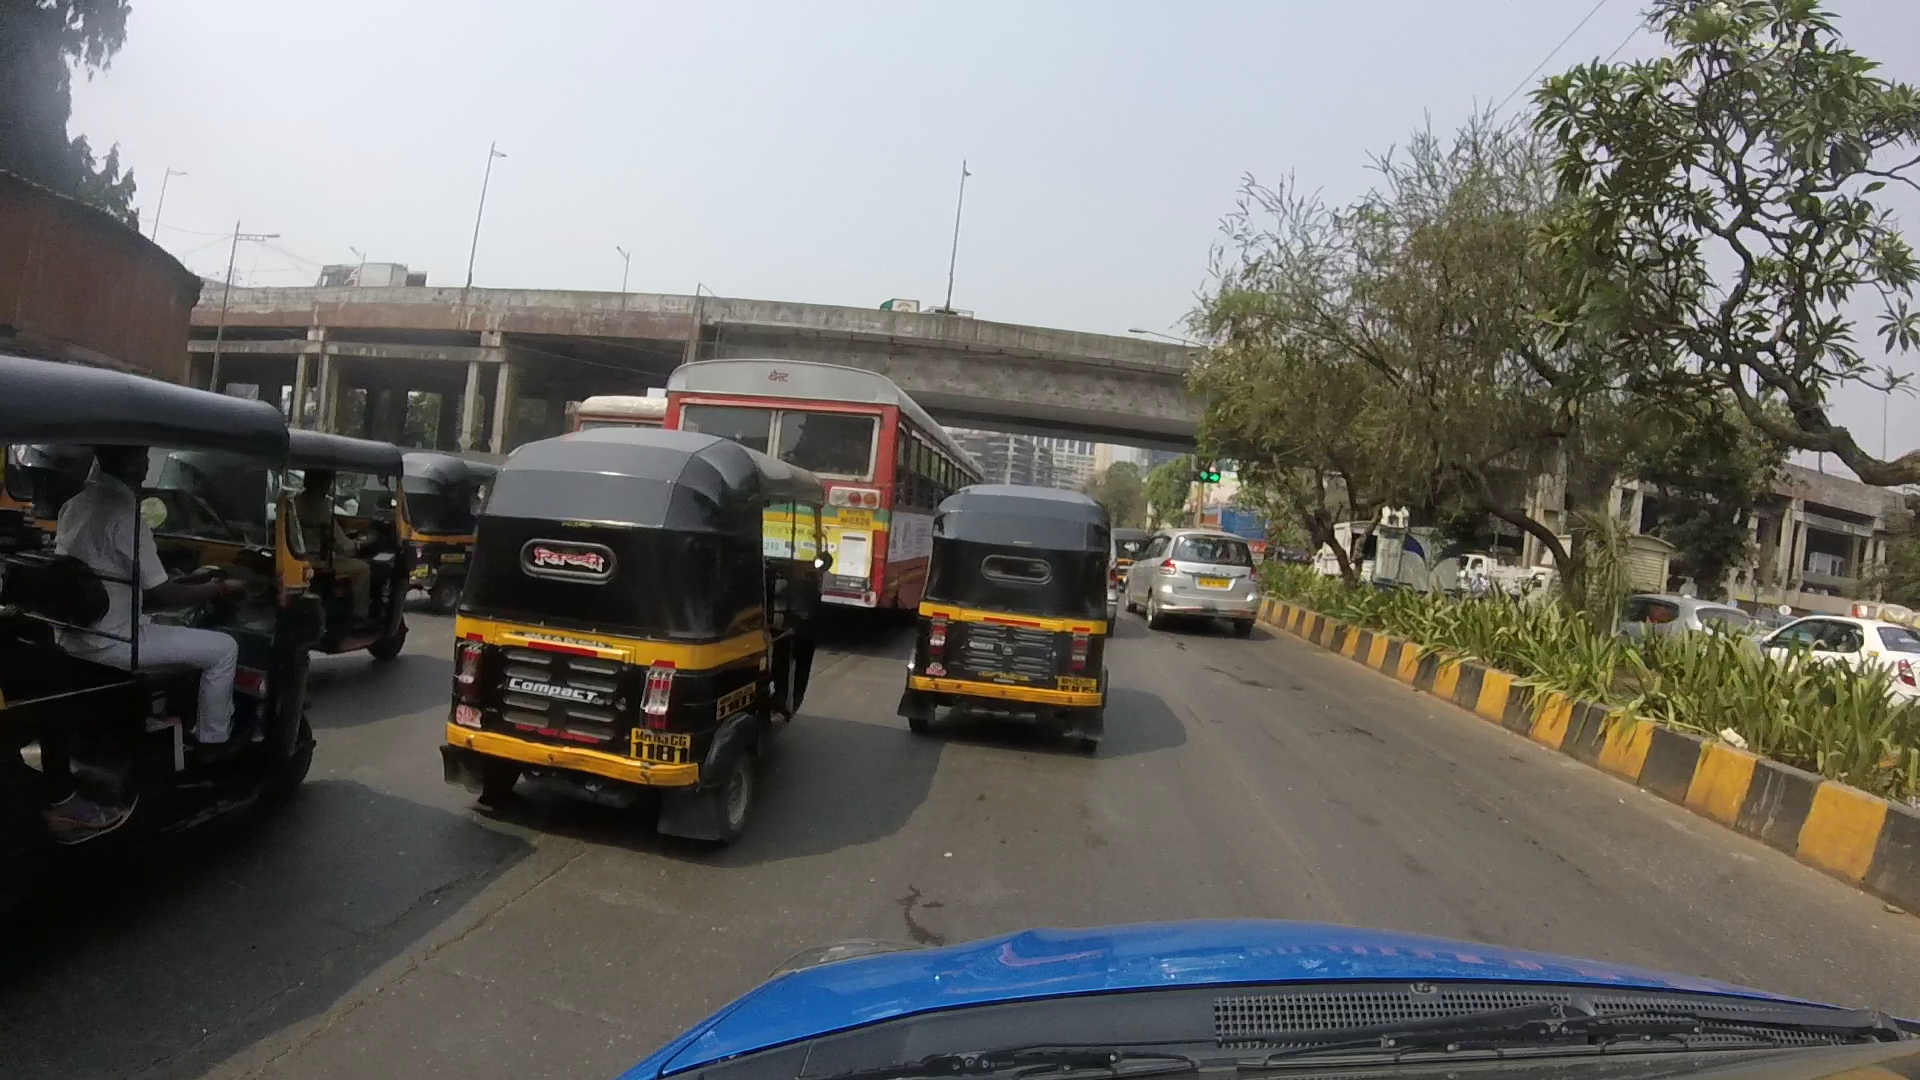bus: (659, 334, 968, 628)
car: (1135, 495, 1265, 659)
rickshaw: (4, 340, 307, 905), (460, 425, 812, 804), (907, 469, 1149, 764), (280, 404, 436, 678), (401, 407, 498, 582)
